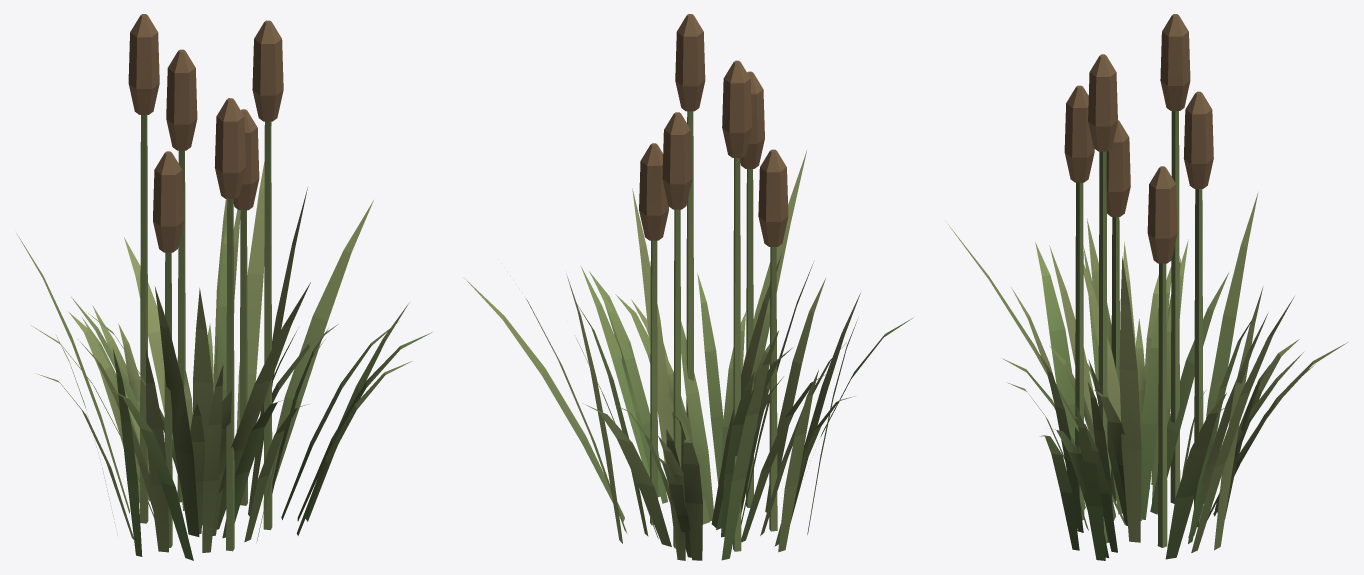
The model's file is reeds_lod0.glb.
3 views of the same model, side by side, from view 1: azimuth 30°, elevation 25°; view 2: azimuth 150°, elevation 25°; view 3: azimuth 270°, elevation 25° (orthographic). The views are drawn at different scales.
Visible parts, largest first — view 1: reeds_lod0; view 2: reeds_lod0; view 3: reeds_lod0.
Part boxes in pixels (left/top/right/bottom): reeds_lod0: left=16, top=14, right=432, bottom=560; reeds_lod0: left=463, top=14, right=913, bottom=560; reeds_lod0: left=948, top=14, right=1347, bottom=560.
Bounding box in the file's own units: 1.39 × 1.79 × 1.35.
